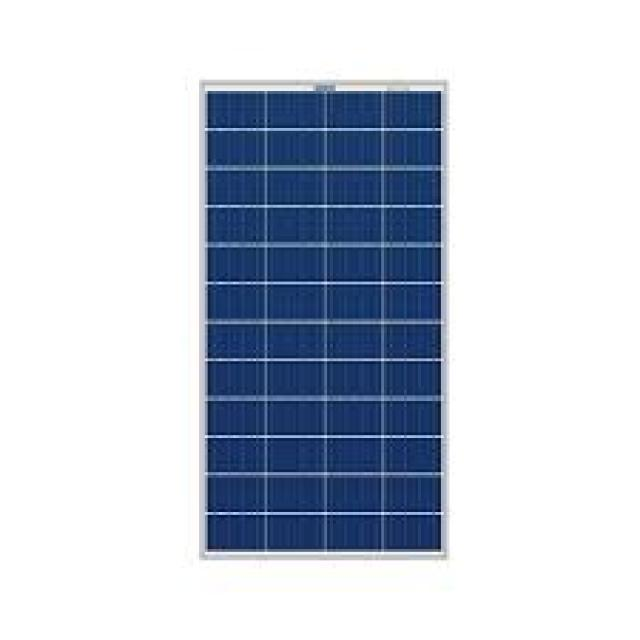Solar: (198, 89, 449, 551)
